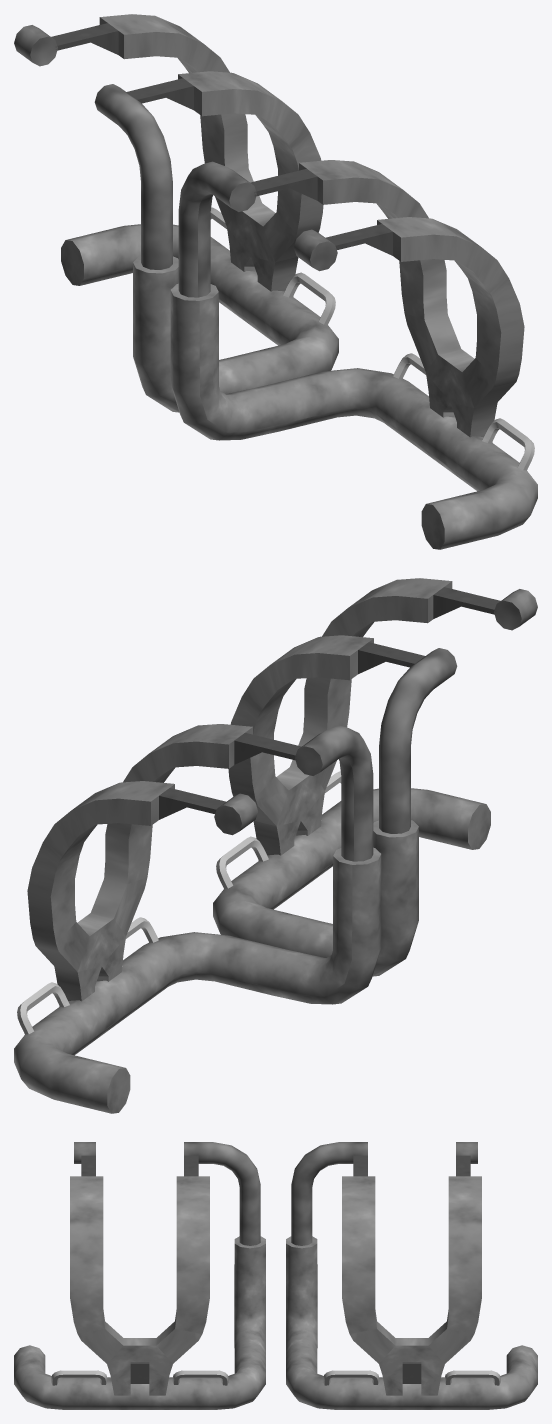
File: restraint.obj
The picture shows the model from 3 angles, top to bottom: view 1: azimuth 30°, elevation 25°; view 2: azimuth 150°, elevation 25°; view 3: azimuth 270°, elevation 25°; orthographic projection. The views are drawn at different scales.
Size of the model in its own units: 0.48 by 0.6185 by 1.43.
